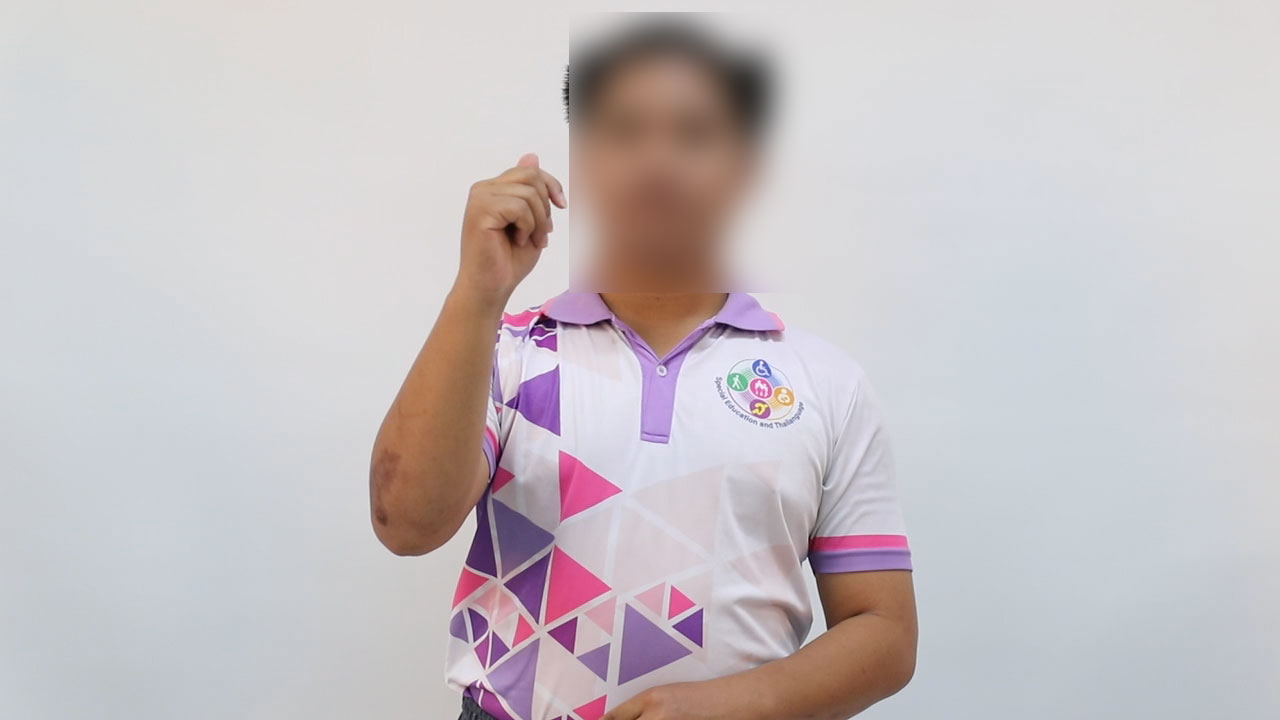tor: (442, 138, 577, 319)
